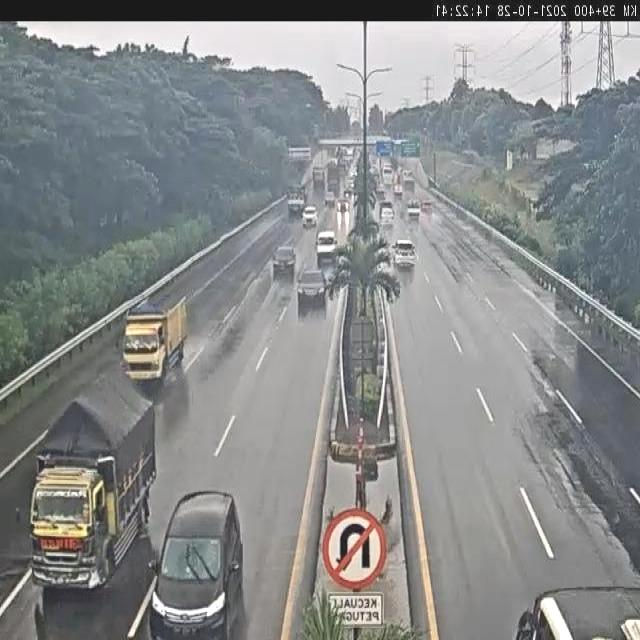Bus: (381, 165, 394, 185)
Car: (147, 491, 250, 639), (295, 269, 329, 305), (272, 244, 297, 276), (393, 238, 416, 266), (302, 205, 318, 228), (336, 197, 351, 212), (420, 200, 433, 213), (324, 191, 336, 204)
Truck: (13, 368, 154, 590), (116, 292, 189, 383), (315, 228, 338, 263), (288, 184, 307, 216), (406, 199, 421, 220), (402, 170, 416, 192), (326, 165, 341, 184), (311, 166, 324, 187), (327, 178, 341, 192)
Van: (379, 206, 395, 228)
